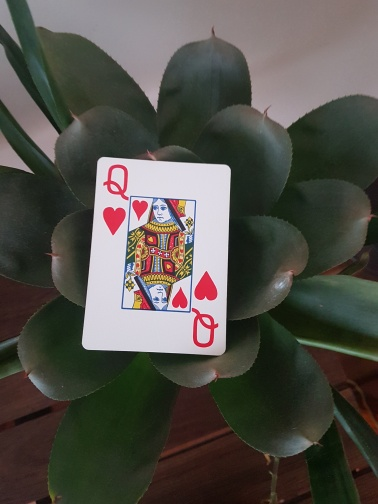queen: (80, 155, 231, 355)
